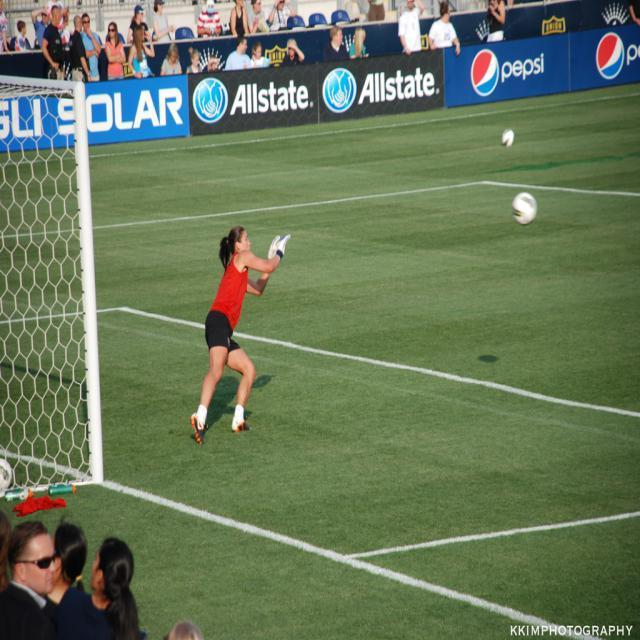football: (502, 181, 540, 236)
